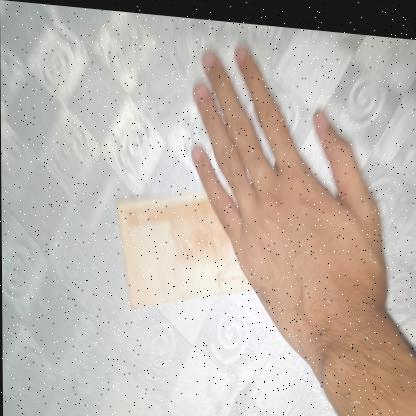twenty-back-vef: (116, 174, 255, 315)
